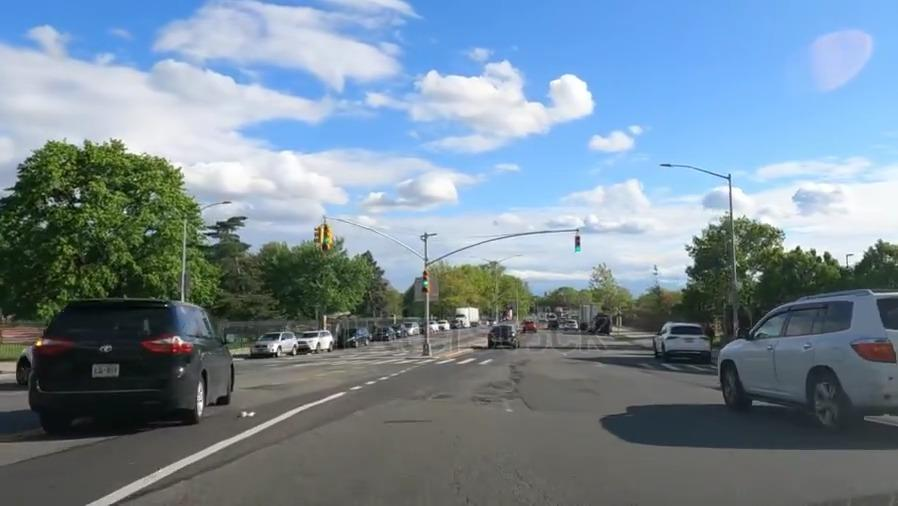car: (35, 311, 249, 422), (724, 295, 898, 420), (649, 319, 713, 362), (249, 330, 300, 357), (15, 335, 37, 381), (488, 322, 520, 347), (300, 329, 331, 354), (339, 327, 371, 345), (374, 325, 390, 341), (524, 318, 536, 333)
pedestrian: (254, 352, 499, 372)
pothole: (472, 392, 495, 410), (432, 389, 456, 405)
road damage: (506, 362, 530, 392), (501, 395, 535, 412)
rubbish: (239, 407, 259, 421)
traffic light: (309, 215, 336, 257), (415, 271, 434, 295), (573, 228, 584, 260)
wheel: (801, 366, 848, 429), (716, 362, 745, 400), (194, 372, 208, 419), (17, 357, 28, 383)
